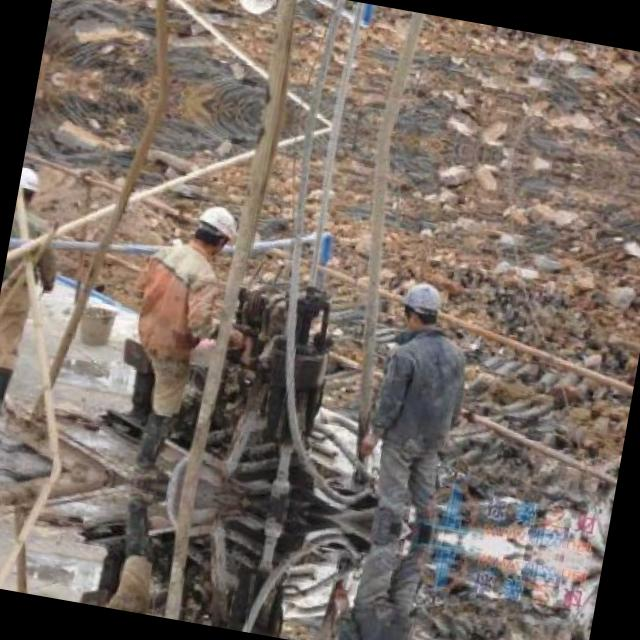helmet: (189, 198, 240, 258), (396, 276, 444, 330), (230, 0, 280, 19)
